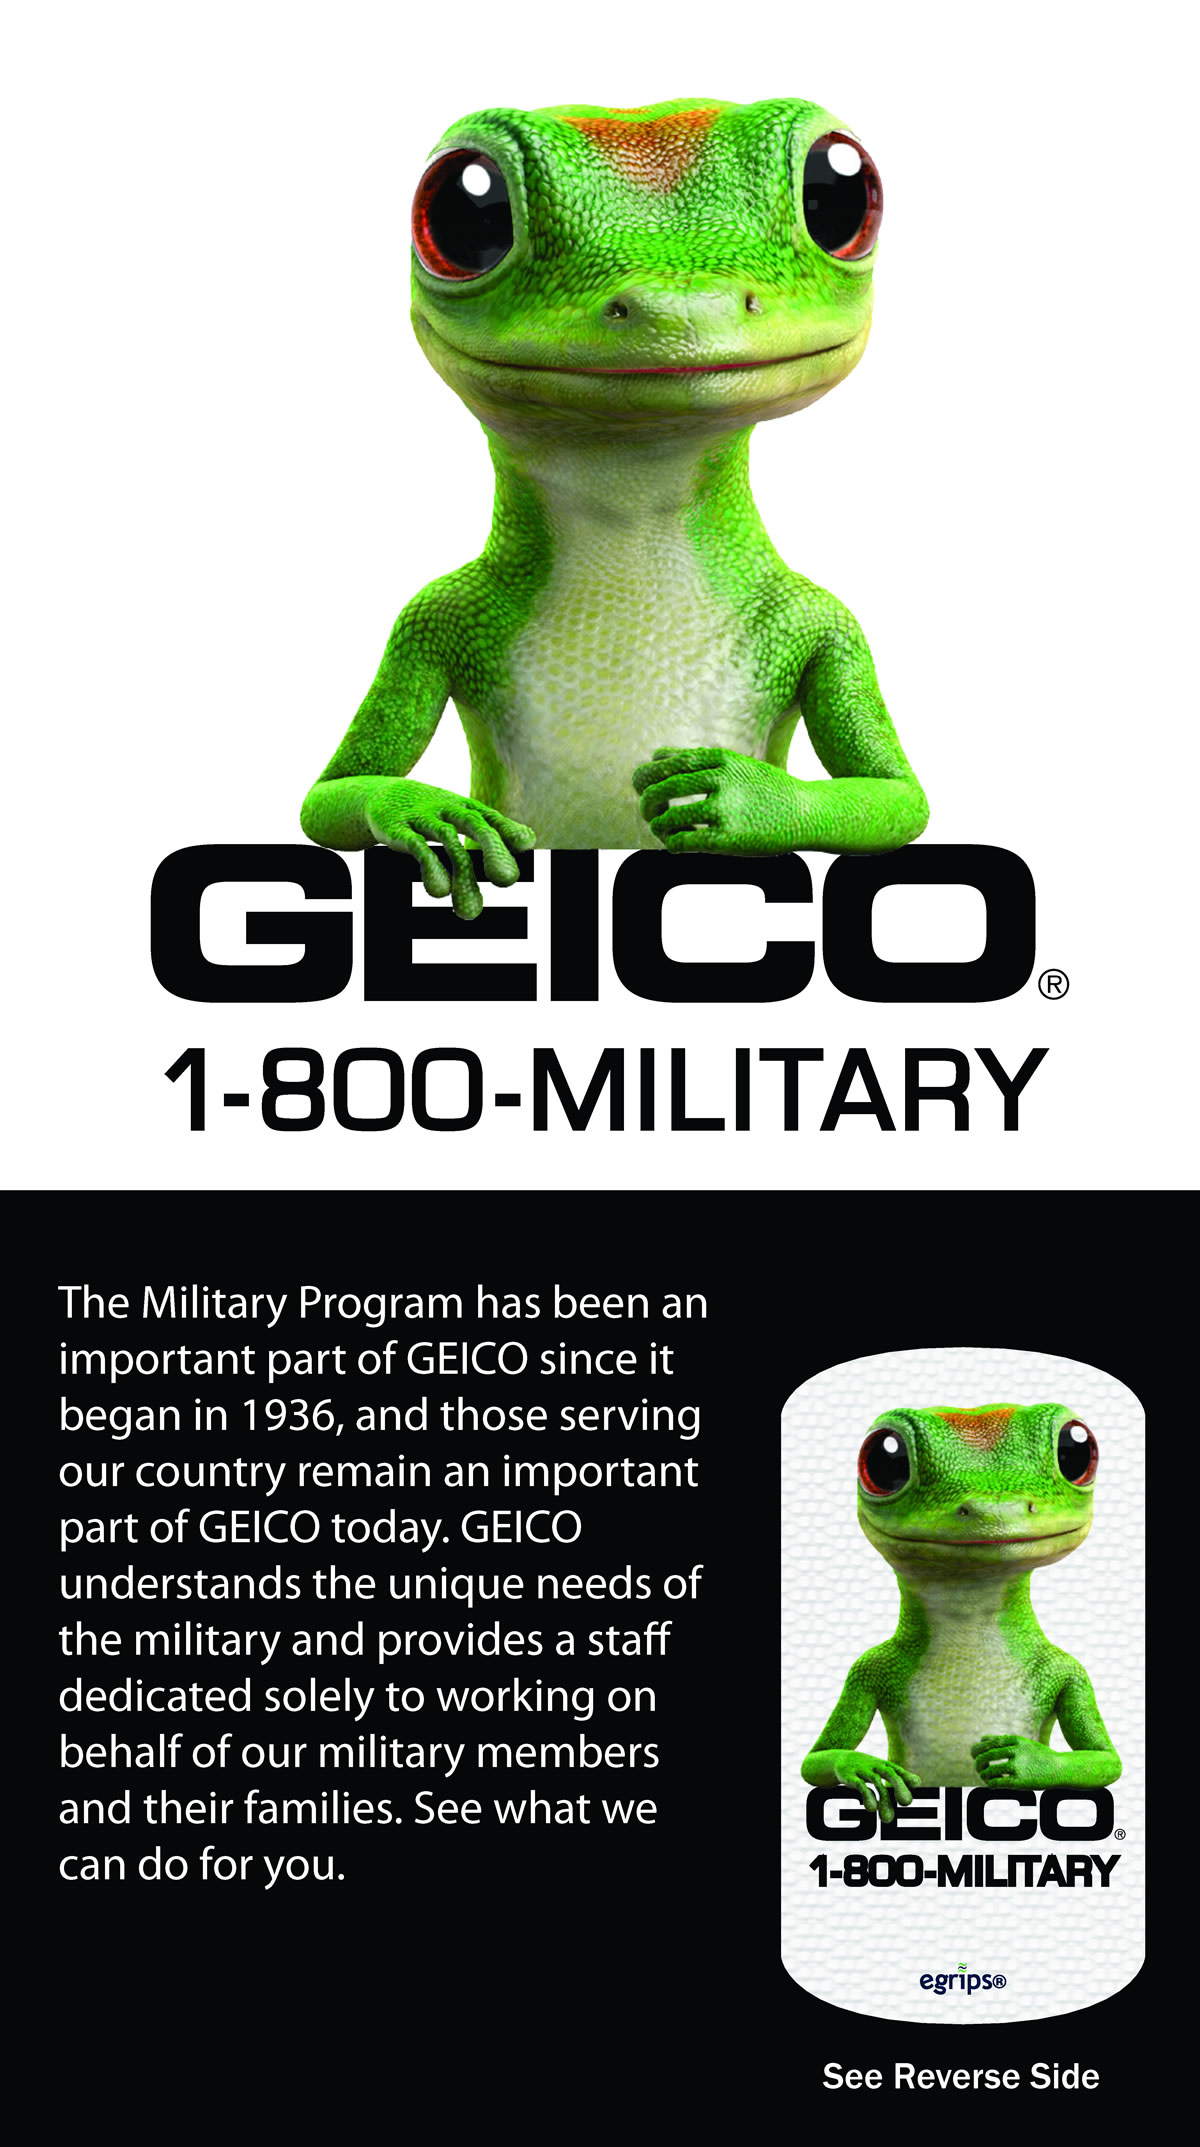geico: (144, 835, 1075, 1017)
